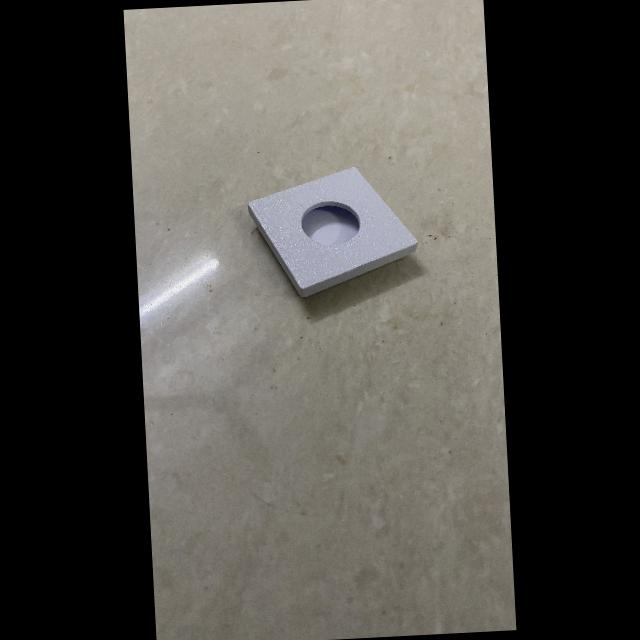RASPBERY PI CAM ENCLOSURE: (241, 134, 442, 330)
